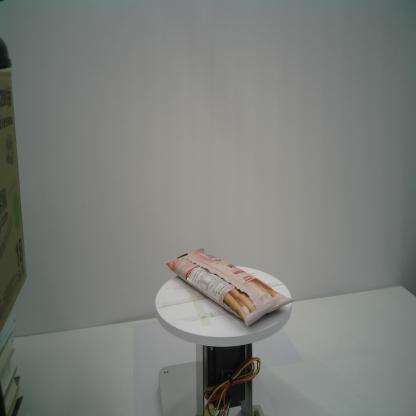Dessert: (165, 248, 294, 327)
